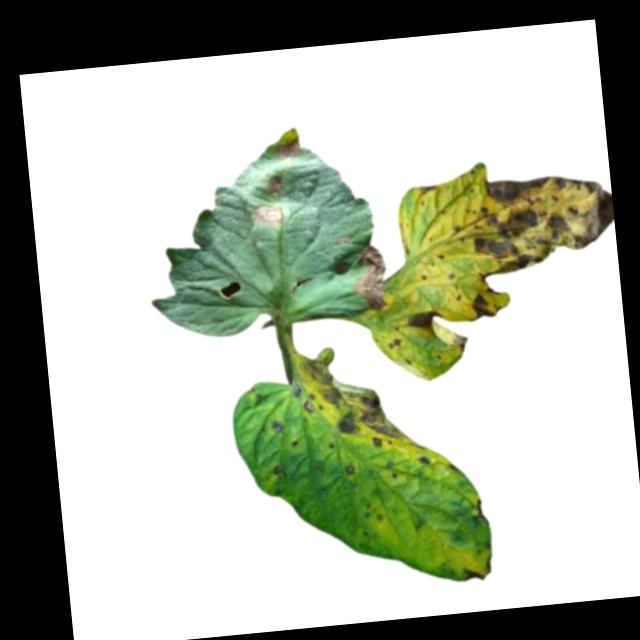Early_blight: (467, 169, 617, 277), (291, 353, 401, 457), (350, 243, 392, 316), (249, 202, 287, 233), (465, 289, 499, 323), (406, 308, 445, 335), (276, 134, 304, 163), (266, 175, 286, 197), (414, 452, 435, 470), (464, 568, 486, 585), (269, 419, 284, 440), (342, 462, 357, 480), (387, 338, 404, 351)
